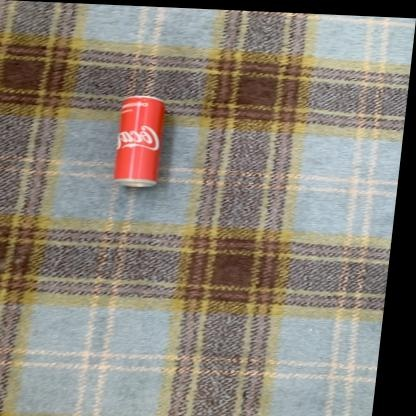trash: (114, 96, 163, 186)
